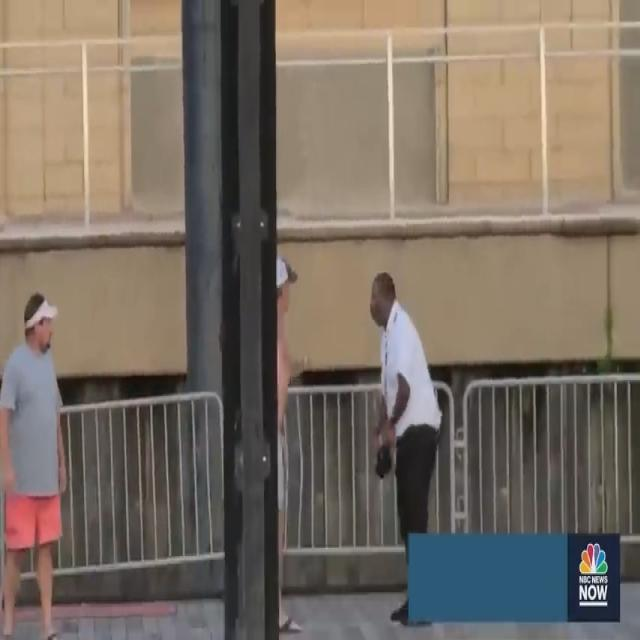non-fight: (257, 249, 457, 630), (0, 282, 77, 640)
